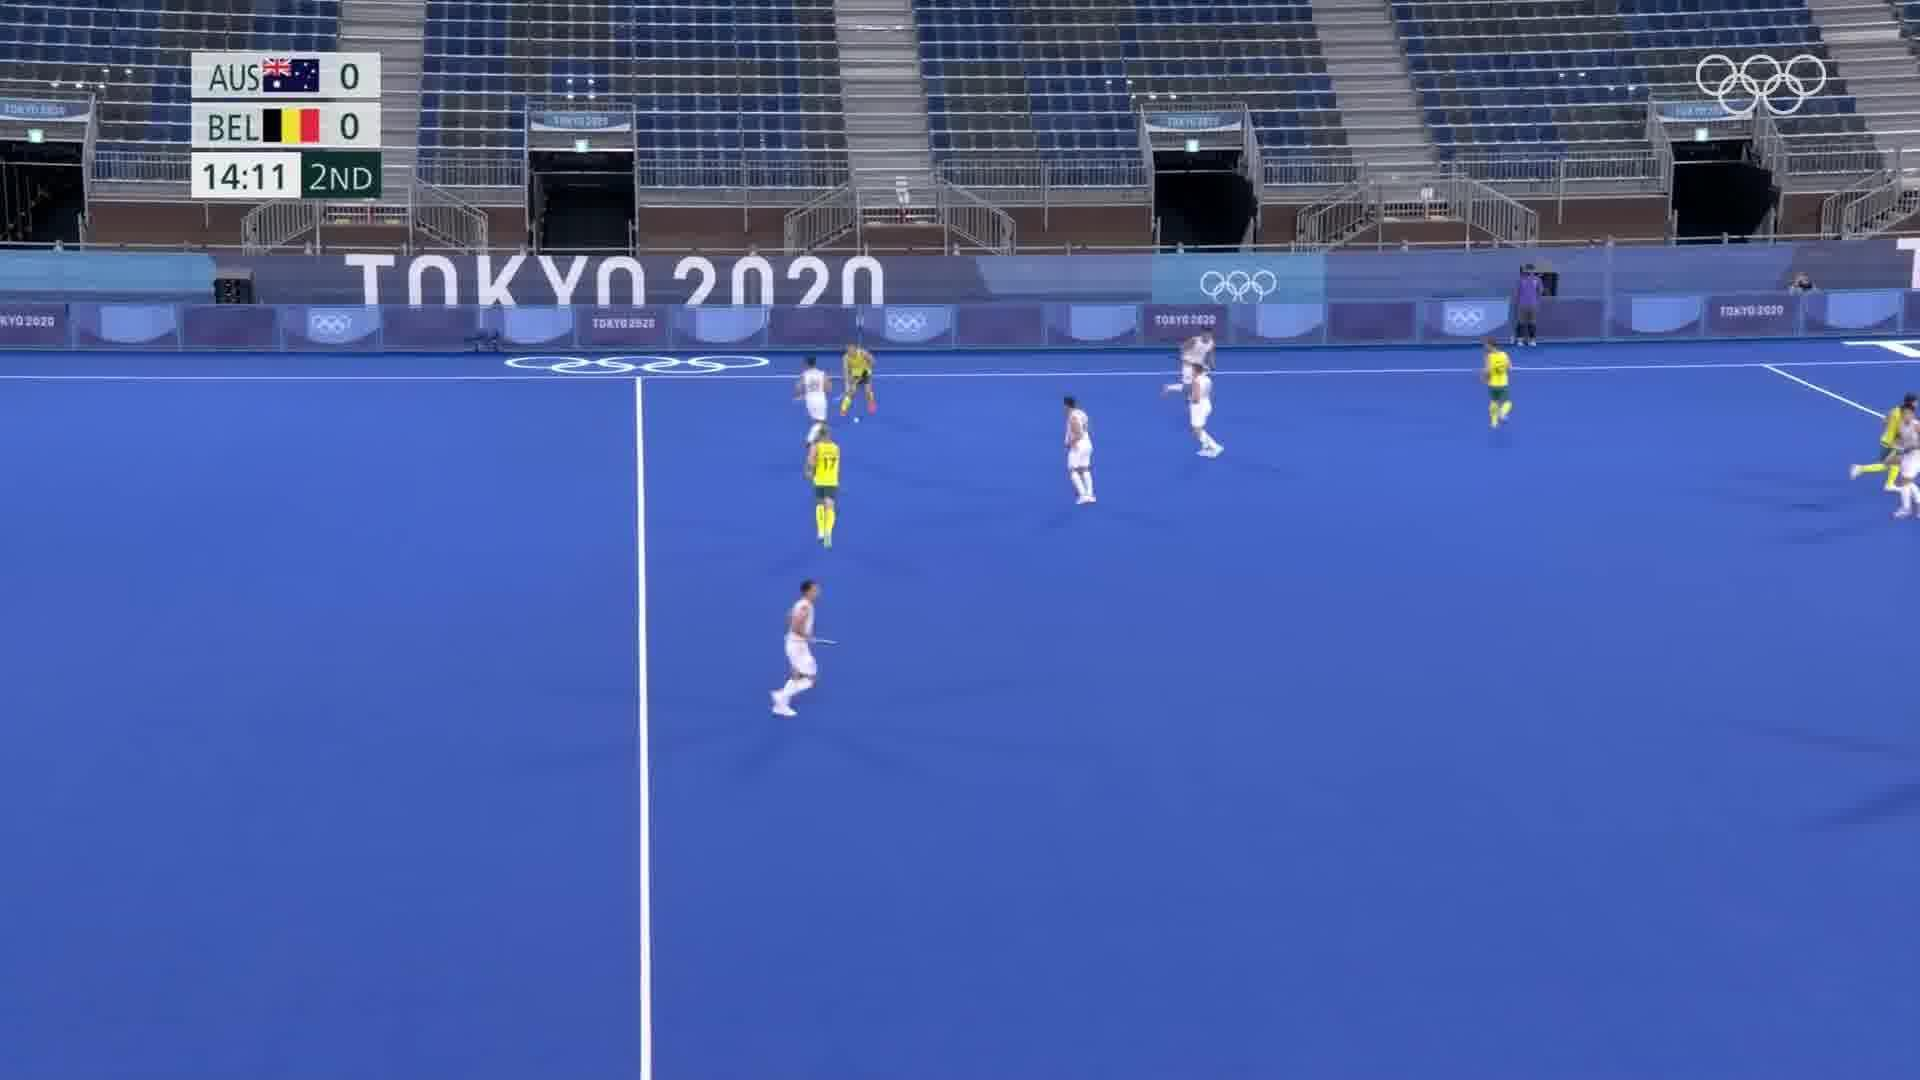ball: (848, 409, 865, 427)
